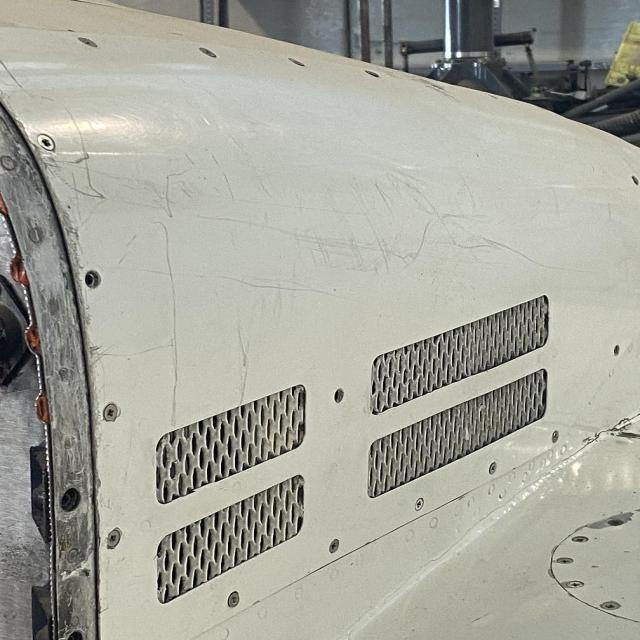Missing-head: (81, 269, 99, 289), (332, 390, 345, 405), (613, 344, 621, 355)
Paint-off: (606, 511, 637, 527), (583, 520, 614, 531)
